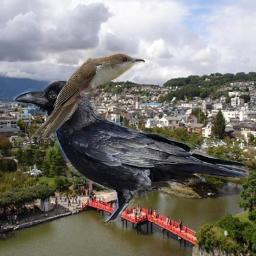Crow: (13, 80, 251, 227)
Cuckoo: (31, 53, 145, 139)
